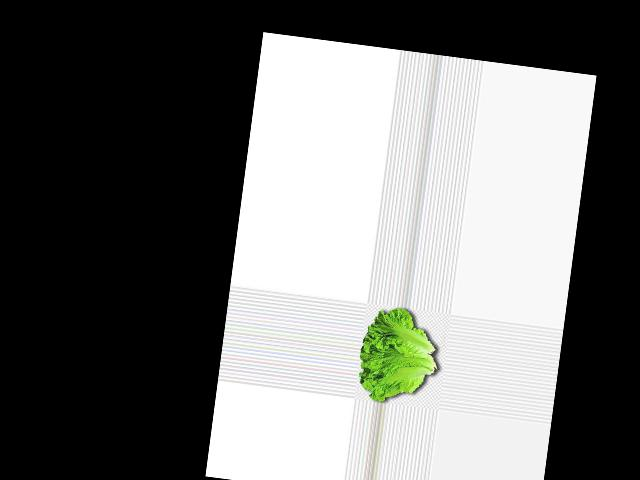lettuce: (355, 279, 439, 406)
